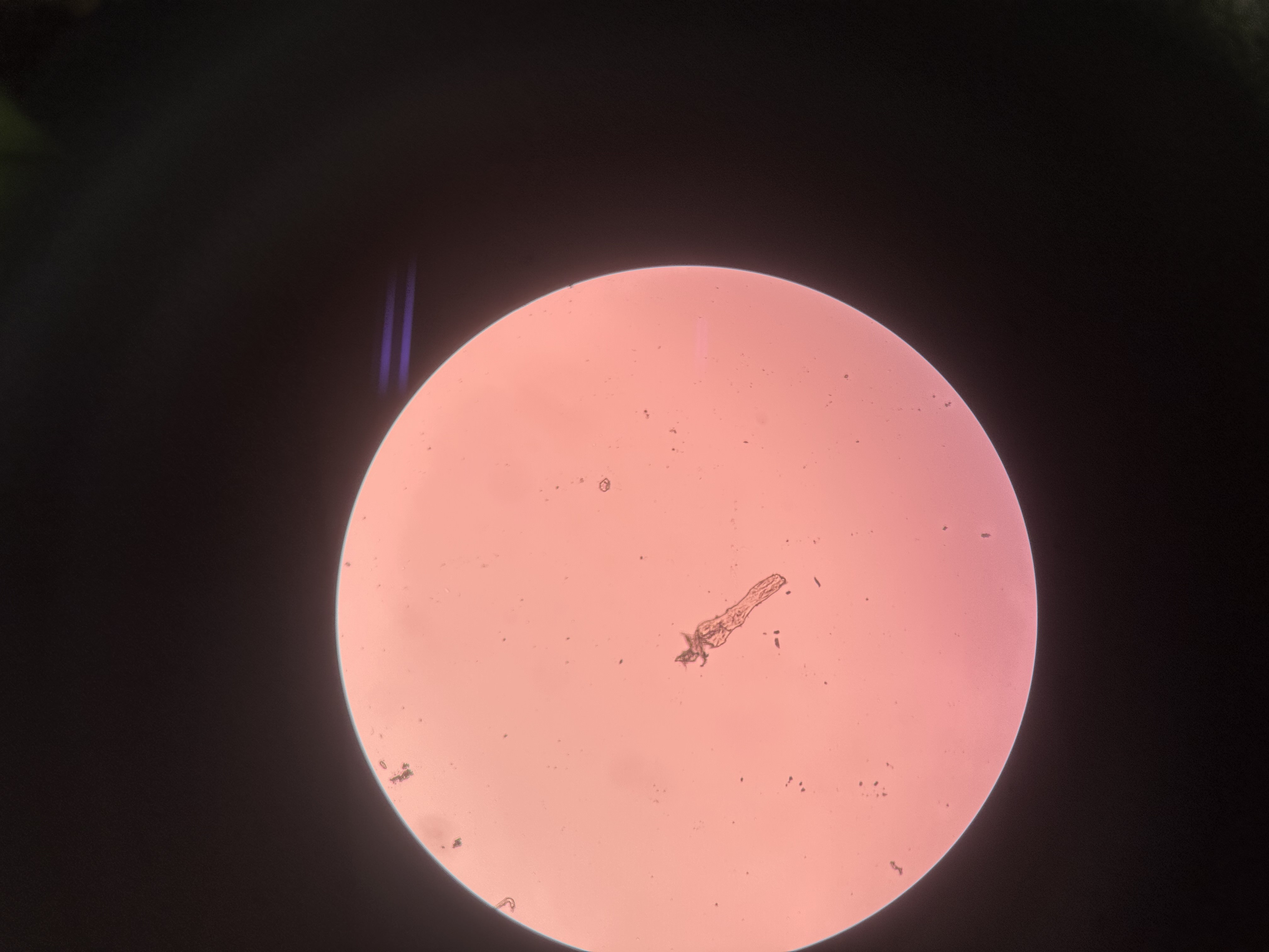microplastic: (673, 573, 790, 670), (382, 757, 418, 785), (497, 896, 519, 913), (597, 477, 612, 492), (448, 836, 467, 847)
